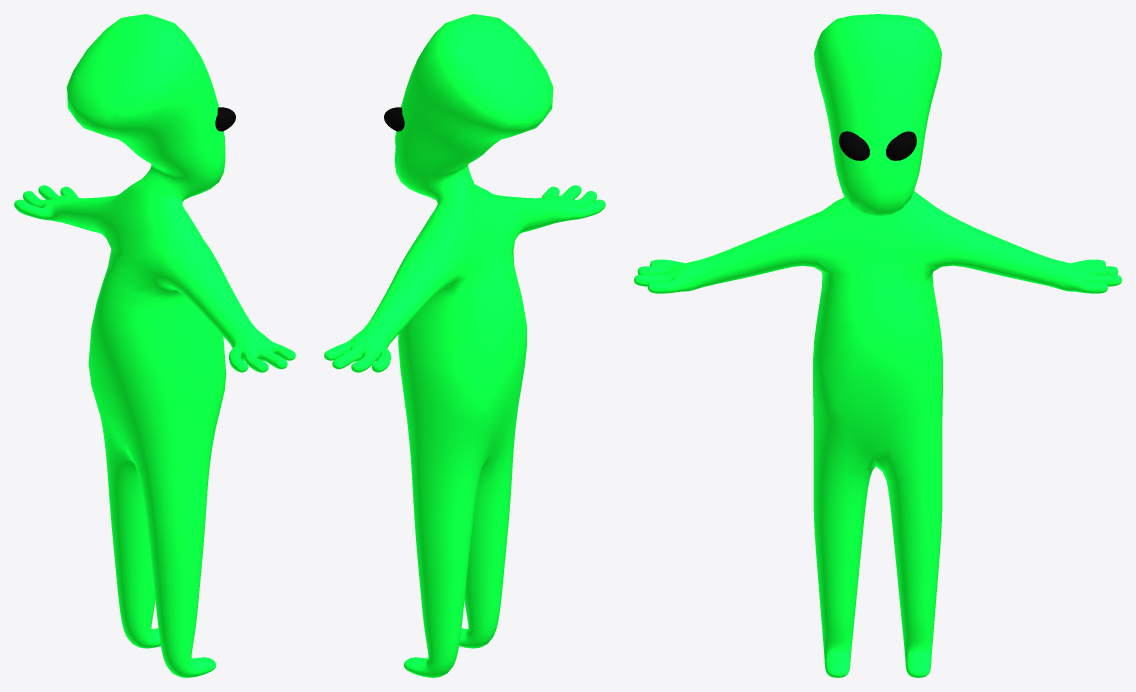
Rendered from lowpolyalien.fbx.
The picture shows the model from 3 angles, left to right: view 1: azimuth 30°, elevation 25°; view 2: azimuth 150°, elevation 25°; view 3: azimuth 270°, elevation 25°; orthographic projection.
Parts seen in each view (by area): view 1: Plane; view 2: Plane; view 3: Plane.
Boxes of the visible parts, x1,y1,x2,y2 form: Plane: (14, 14, 295, 677); Plane: (324, 14, 605, 677); Plane: (634, 14, 1121, 677).
Bounding box in the file's own units: 48.2 × 202 × 138.
